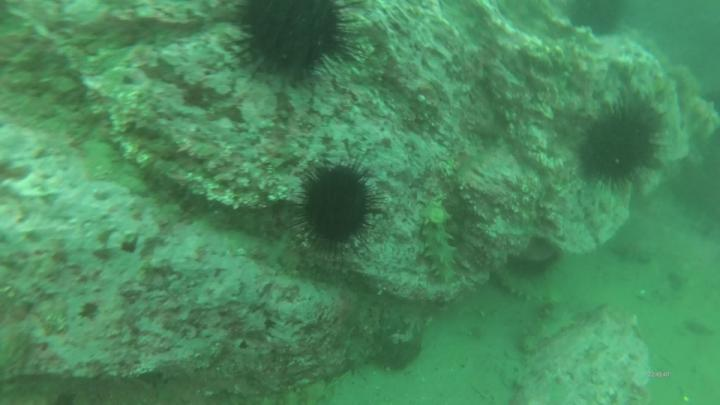echinus: (232, 1, 363, 82), (286, 151, 377, 260), (576, 104, 658, 189), (567, 1, 628, 36), (374, 337, 422, 379)
holothurian: (410, 198, 465, 291), (518, 302, 578, 356), (490, 263, 550, 306)
